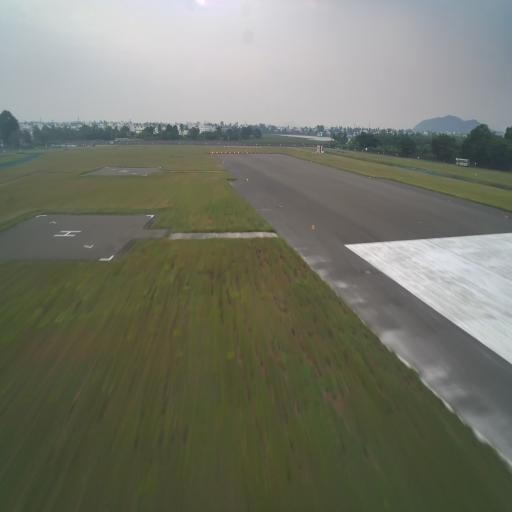off: (364, 268, 371, 276), (278, 204, 283, 209), (418, 220, 422, 226)
on: (504, 212, 509, 220), (311, 224, 315, 230), (369, 175, 371, 180), (310, 160, 313, 163), (222, 160, 224, 164), (246, 178, 248, 181), (210, 152, 212, 155), (216, 151, 218, 154), (225, 152, 227, 154), (242, 152, 244, 154), (246, 152, 248, 154), (212, 151, 213, 154), (221, 151, 222, 154), (234, 151, 235, 154), (238, 152, 239, 154), (251, 152, 252, 154), (255, 152, 256, 154), (259, 152, 260, 154), (230, 151, 230, 154)
